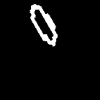chain: (30, 4, 56, 45)
